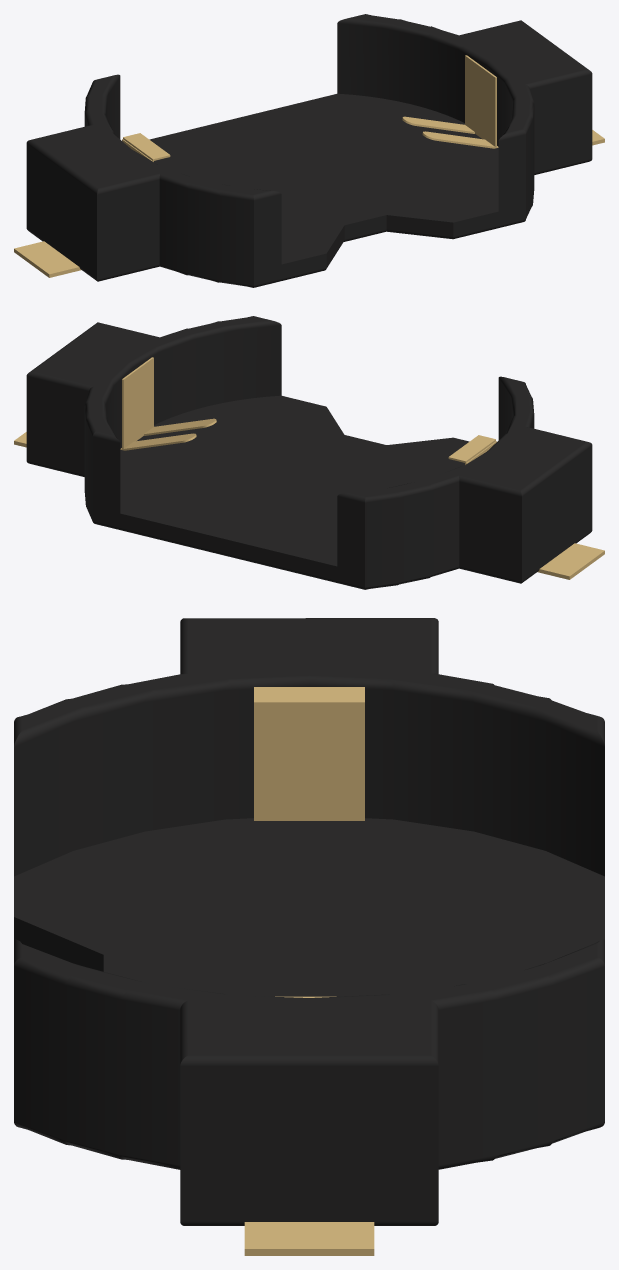
File: Battery__BatteryHolder_Keystone_1058_1x2032.glb
3 renders of one model, top to bottom at view 1: azimuth 30°, elevation 25°; view 2: azimuth 150°, elevation 25°; view 3: azimuth 270°, elevation 25°, orthographic. The views are drawn at different scales.
Parts seen in each view (by area): view 1: Keystone_1058_1x2032; view 2: Keystone_1058_1x2032; view 3: Keystone_1058_1x2032.
Boxes of the visible parts, bbox=[...] form: Keystone_1058_1x2032: bbox=[14, 14, 604, 287]; Keystone_1058_1x2032: bbox=[14, 316, 604, 589]; Keystone_1058_1x2032: bbox=[14, 618, 604, 1255].
Bounding box in the file's own units: 0.0319 × 0.00508 × 0.016.
